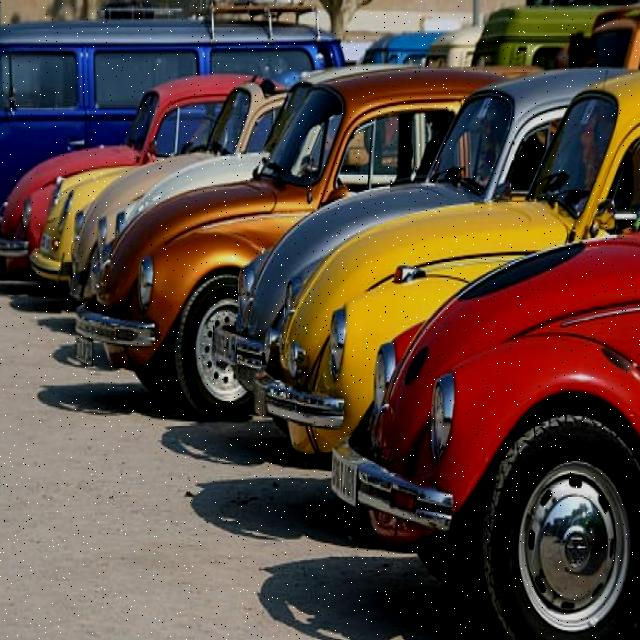car: (89, 59, 574, 429), (362, 129, 640, 640)
